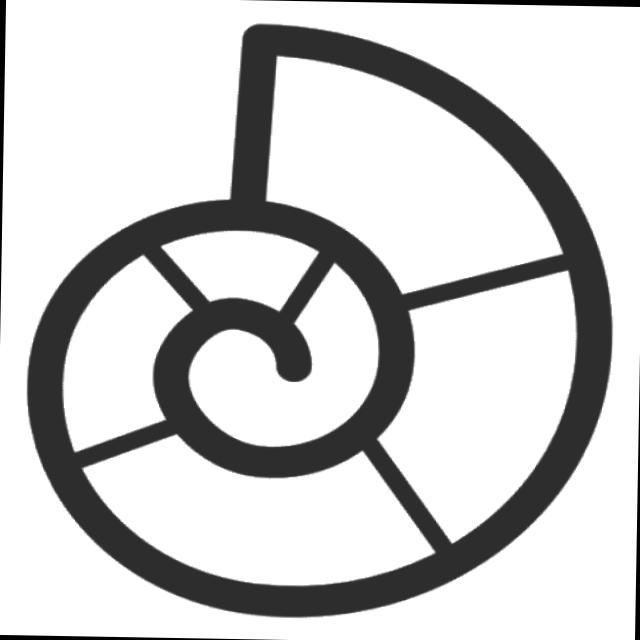fossil: (13, 10, 630, 634)
